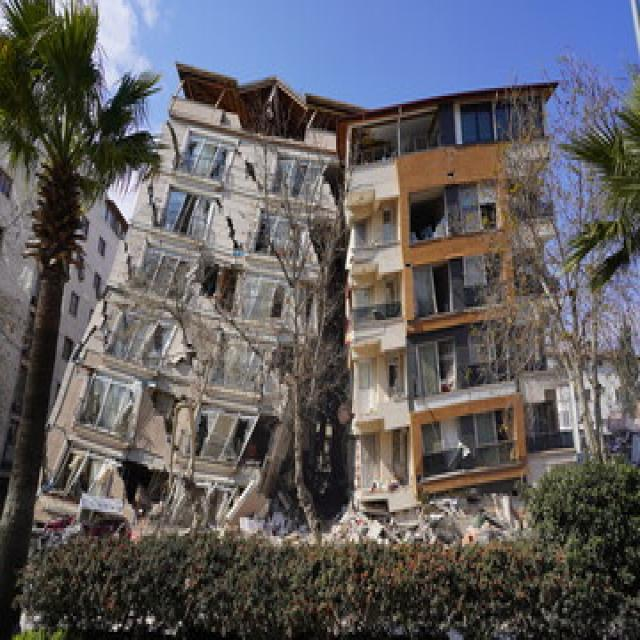Destroyed_building: (1, 0, 579, 640)
